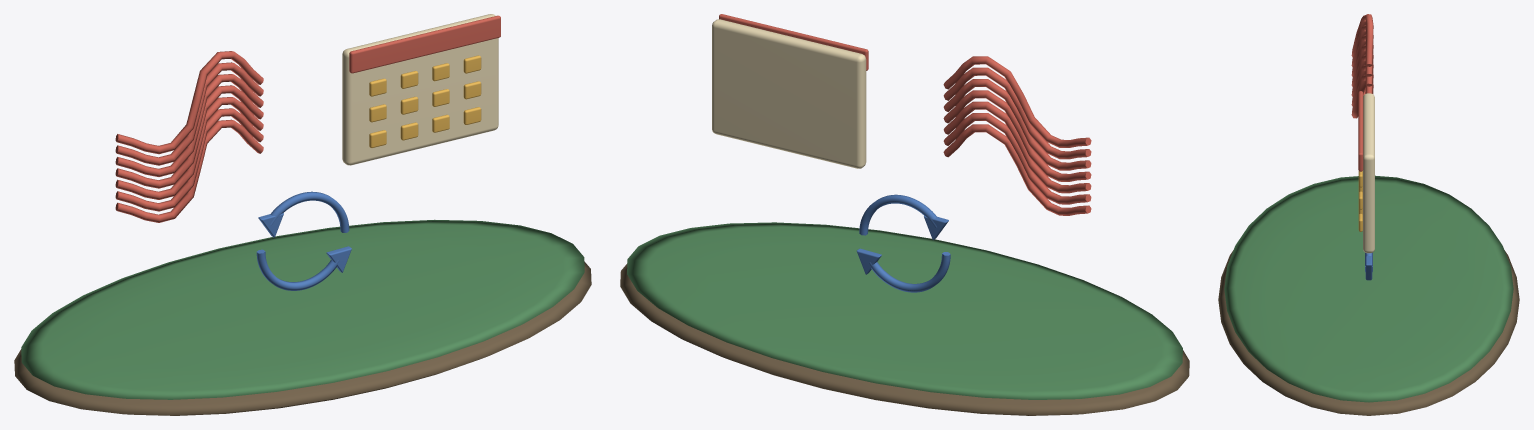
Rendered from complete-first-often-threaded-dates.glb.
3 renders of one model, left to right at view 1: azimuth 30°, elevation 25°; view 2: azimuth 150°, elevation 25°; view 3: azimuth 270°, elevation 25°, orthographic. The views are drawn at different scales.
Parts seen in each view (by area): view 1: complete-first-often-threaded-dates_surface_01, complete-first-often-threaded-dates_surface_02, complete-first-often-threaded-dates_surface_03, complete-first-often-threaded-dates_surface_00, complete-first-often-threaded-dates_surface_04, complete-first-often-threaded-dates_surface_05; view 2: complete-first-often-threaded-dates_surface_01, complete-first-often-threaded-dates_surface_03, complete-first-often-threaded-dates_surface_02, complete-first-often-threaded-dates_surface_00, complete-first-often-threaded-dates_surface_05; view 3: complete-first-often-threaded-dates_surface_01, complete-first-often-threaded-dates_surface_00, complete-first-often-threaded-dates_surface_02, complete-first-often-threaded-dates_surface_03, complete-first-often-threaded-dates_surface_04.
Part boxes in pixels (x1,y1,x2,y2): complete-first-often-threaded-dates_surface_01: [21, 219, 584, 399]; complete-first-often-threaded-dates_surface_02: [115, 15, 500, 222]; complete-first-often-threaded-dates_surface_03: [342, 14, 498, 165]; complete-first-often-threaded-dates_surface_00: [14, 261, 591, 415]; complete-first-often-threaded-dates_surface_04: [369, 55, 481, 147]; complete-first-often-threaded-dates_surface_05: [256, 191, 351, 290]; complete-first-often-threaded-dates_surface_01: [627, 222, 1182, 399]; complete-first-often-threaded-dates_surface_03: [712, 19, 866, 168]; complete-first-often-threaded-dates_surface_02: [719, 14, 1091, 215]; complete-first-often-threaded-dates_surface_00: [620, 263, 1189, 415]; complete-first-often-threaded-dates_surface_05: [856, 194, 950, 292]; complete-first-often-threaded-dates_surface_01: [1224, 175, 1513, 402]; complete-first-often-threaded-dates_surface_00: [1218, 250, 1519, 415]; complete-first-often-threaded-dates_surface_02: [1351, 14, 1373, 171]; complete-first-often-threaded-dates_surface_03: [1363, 93, 1374, 253]; complete-first-often-threaded-dates_surface_04: [1358, 171, 1362, 231].
Size of the model in its own units: 4.56 by 2.42 by 2.5.
